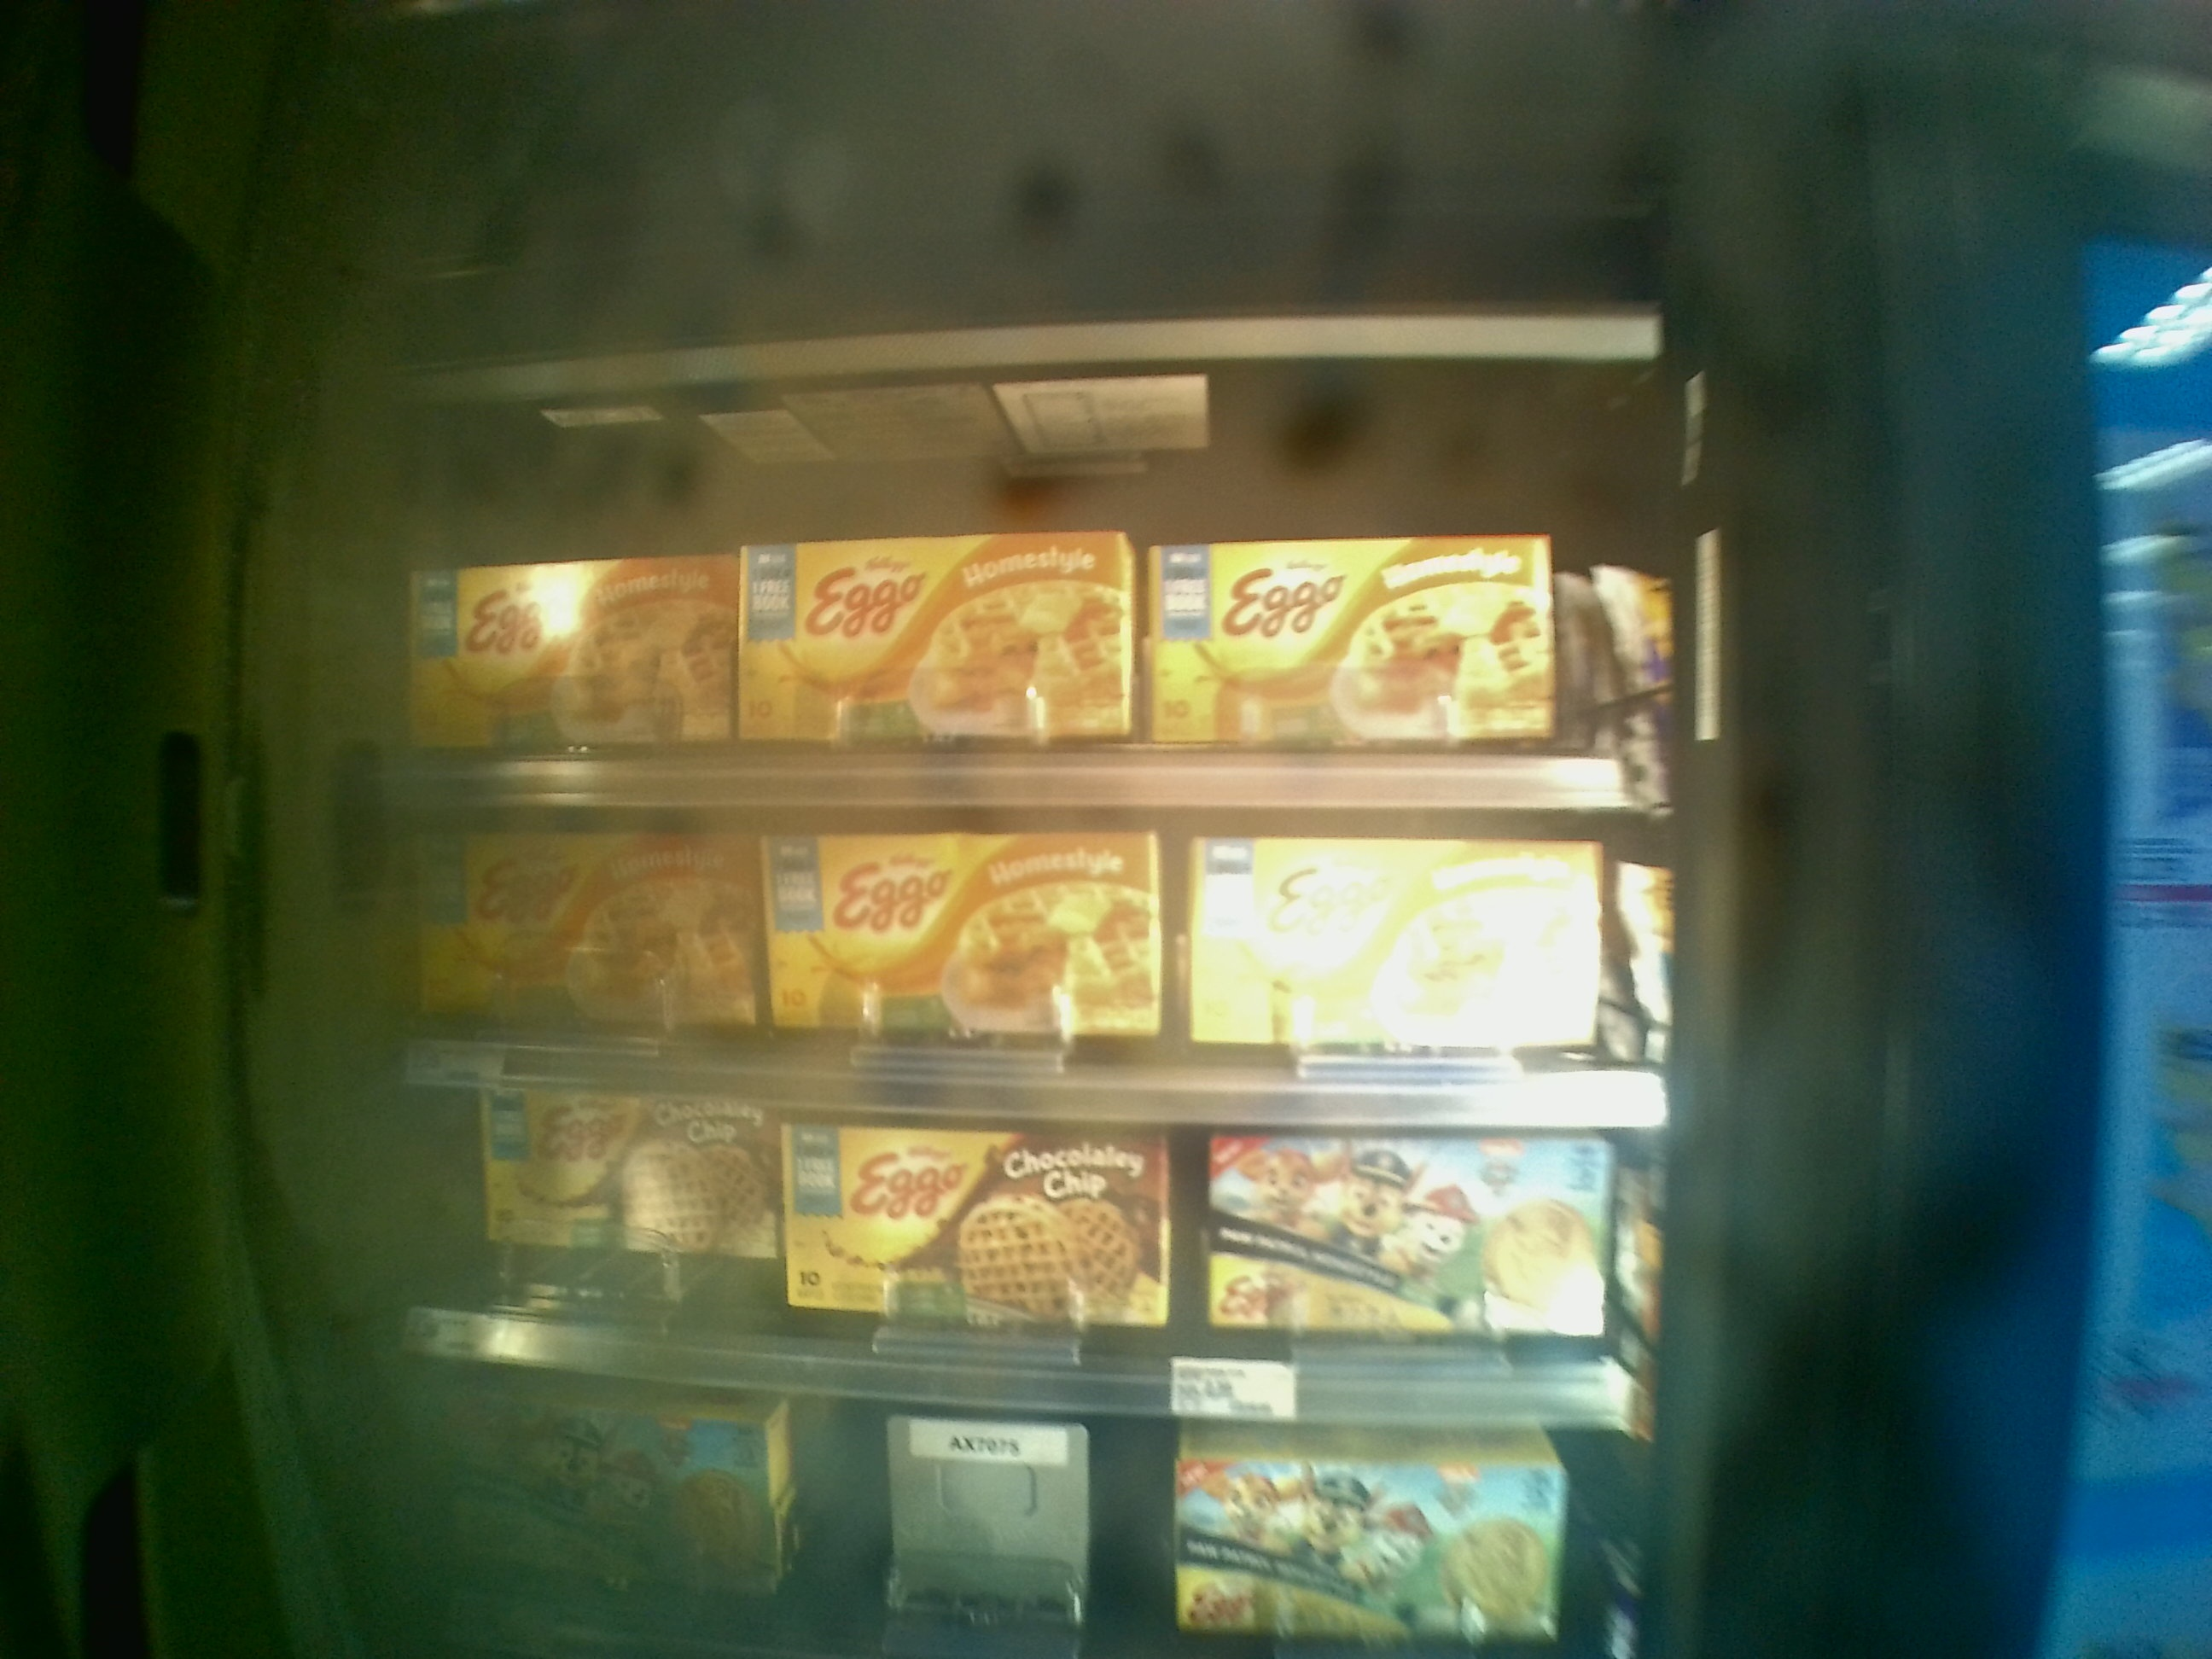shelf: (376, 350, 1676, 798), (387, 1075, 1662, 1436), (371, 802, 1669, 1140)
